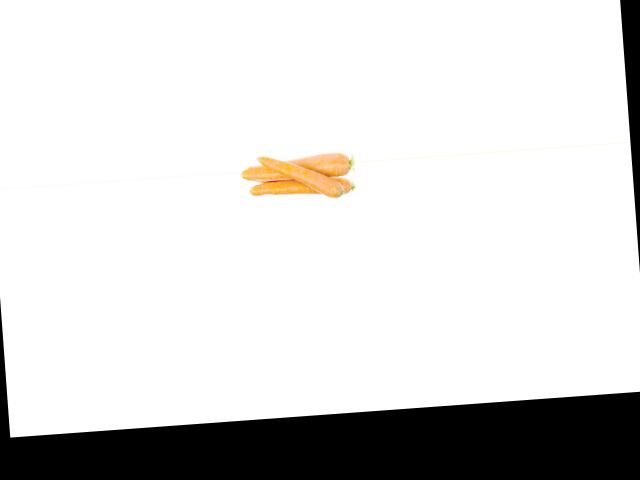carrot: (236, 151, 355, 181)
